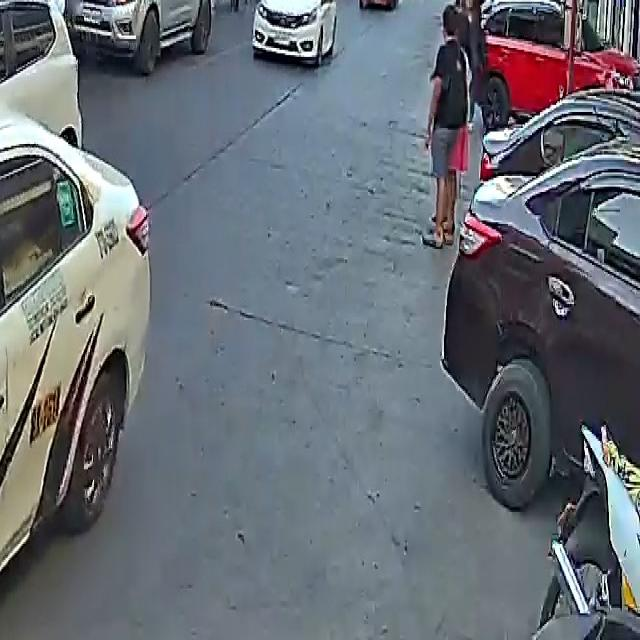car: (0, 51, 148, 633), (443, 101, 640, 535), (477, 0, 636, 126), (0, 0, 92, 149), (70, 0, 223, 71), (251, 0, 341, 64), (359, 0, 402, 7)
